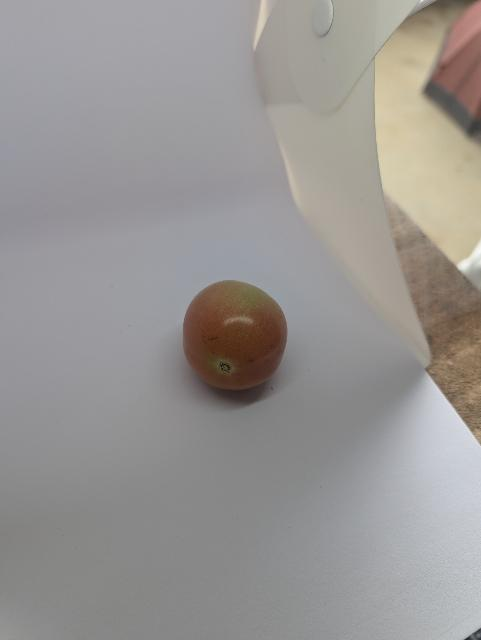turning: (178, 275, 297, 398)
